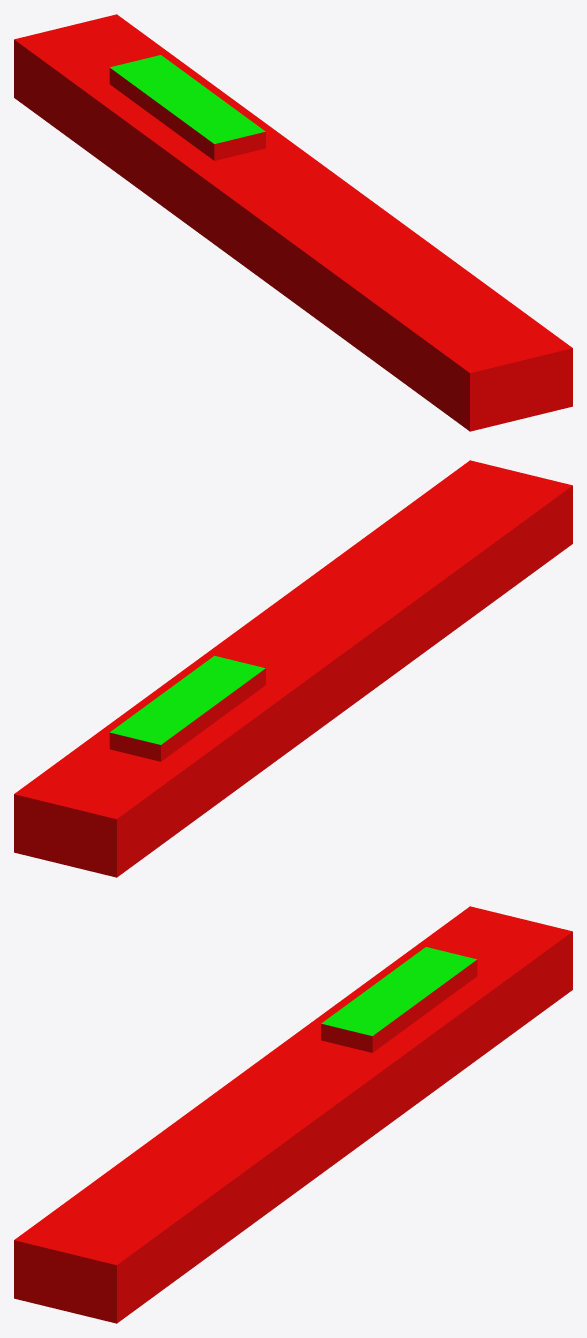
The model's file is labeled.obj.
3 views of the same model, one above another, from view 1: azimuth 30°, elevation 25°; view 2: azimuth 150°, elevation 25°; view 3: azimuth 330°, elevation 25° (orthographic).
Size of the model in its own units: 0.0184 by 0.0129 by 0.1414.
